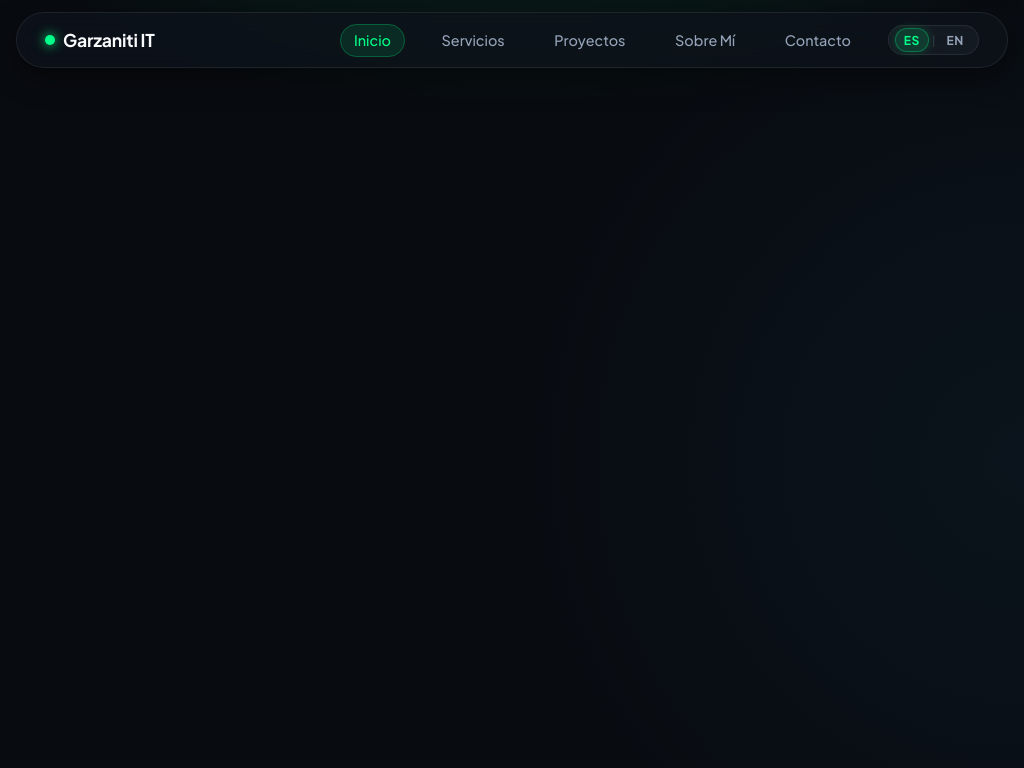
Test case: Navbar component › switches language to English when EN button is clicked
Click the button with aria-label "English" at (955, 40), box [938,29,972,51]
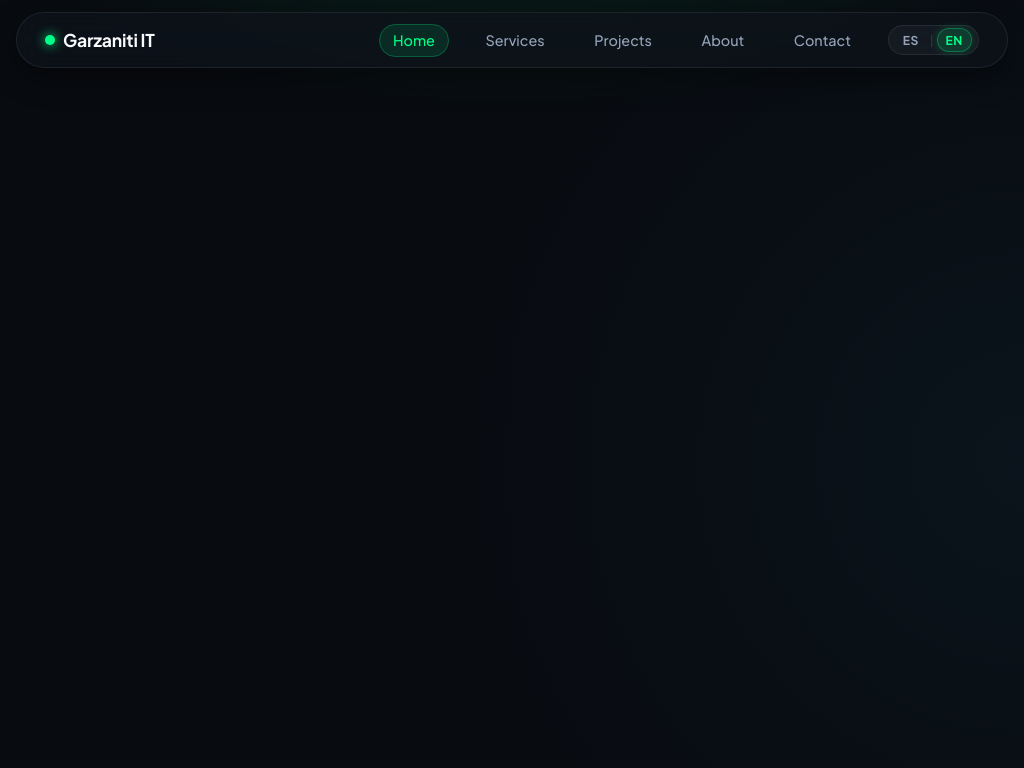
Expected: the link "Services" is shown, [486,32,545,50]
Expected: the link "Home" is shown, [379,24,449,57]
